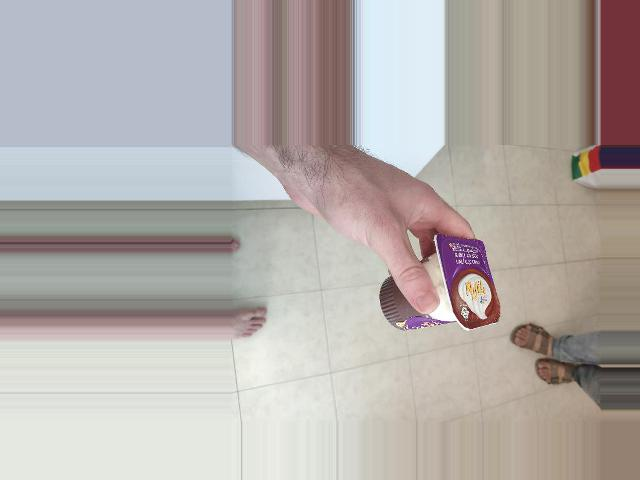milky: (419, 249, 508, 371)
